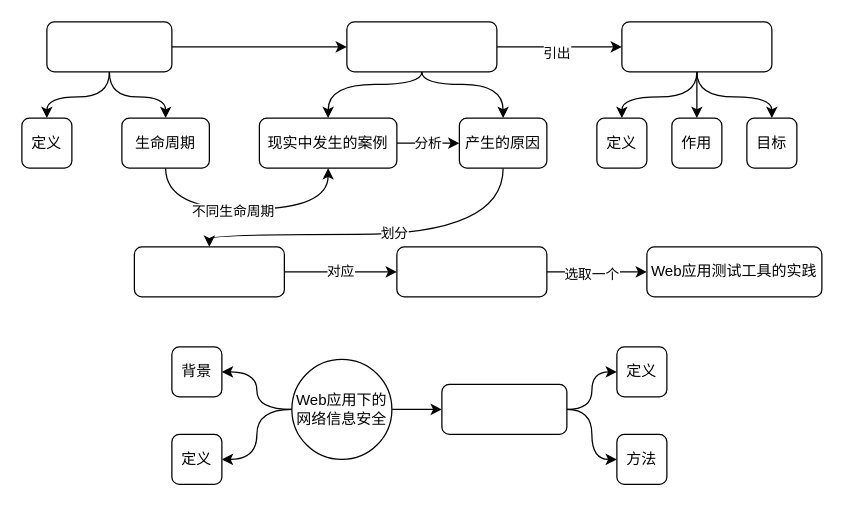
The diagram is 844 pixels wide and 506 high, and some of its shapes have lost their labels. The shapes that lost their labels are listed below. From the top down, each one's box as (x1, y1, x2, y2) in pixels, then its label:
(46, 21, 172, 72): Web应用介绍
(346, 21, 497, 72): Web应用测试背景
(621, 21, 772, 72): Web应用测试概念
(133, 246, 284, 297): Web应用测试种类
(396, 246, 547, 297): Web应用测试工具
(441, 383, 567, 434): Web应用安全测试
